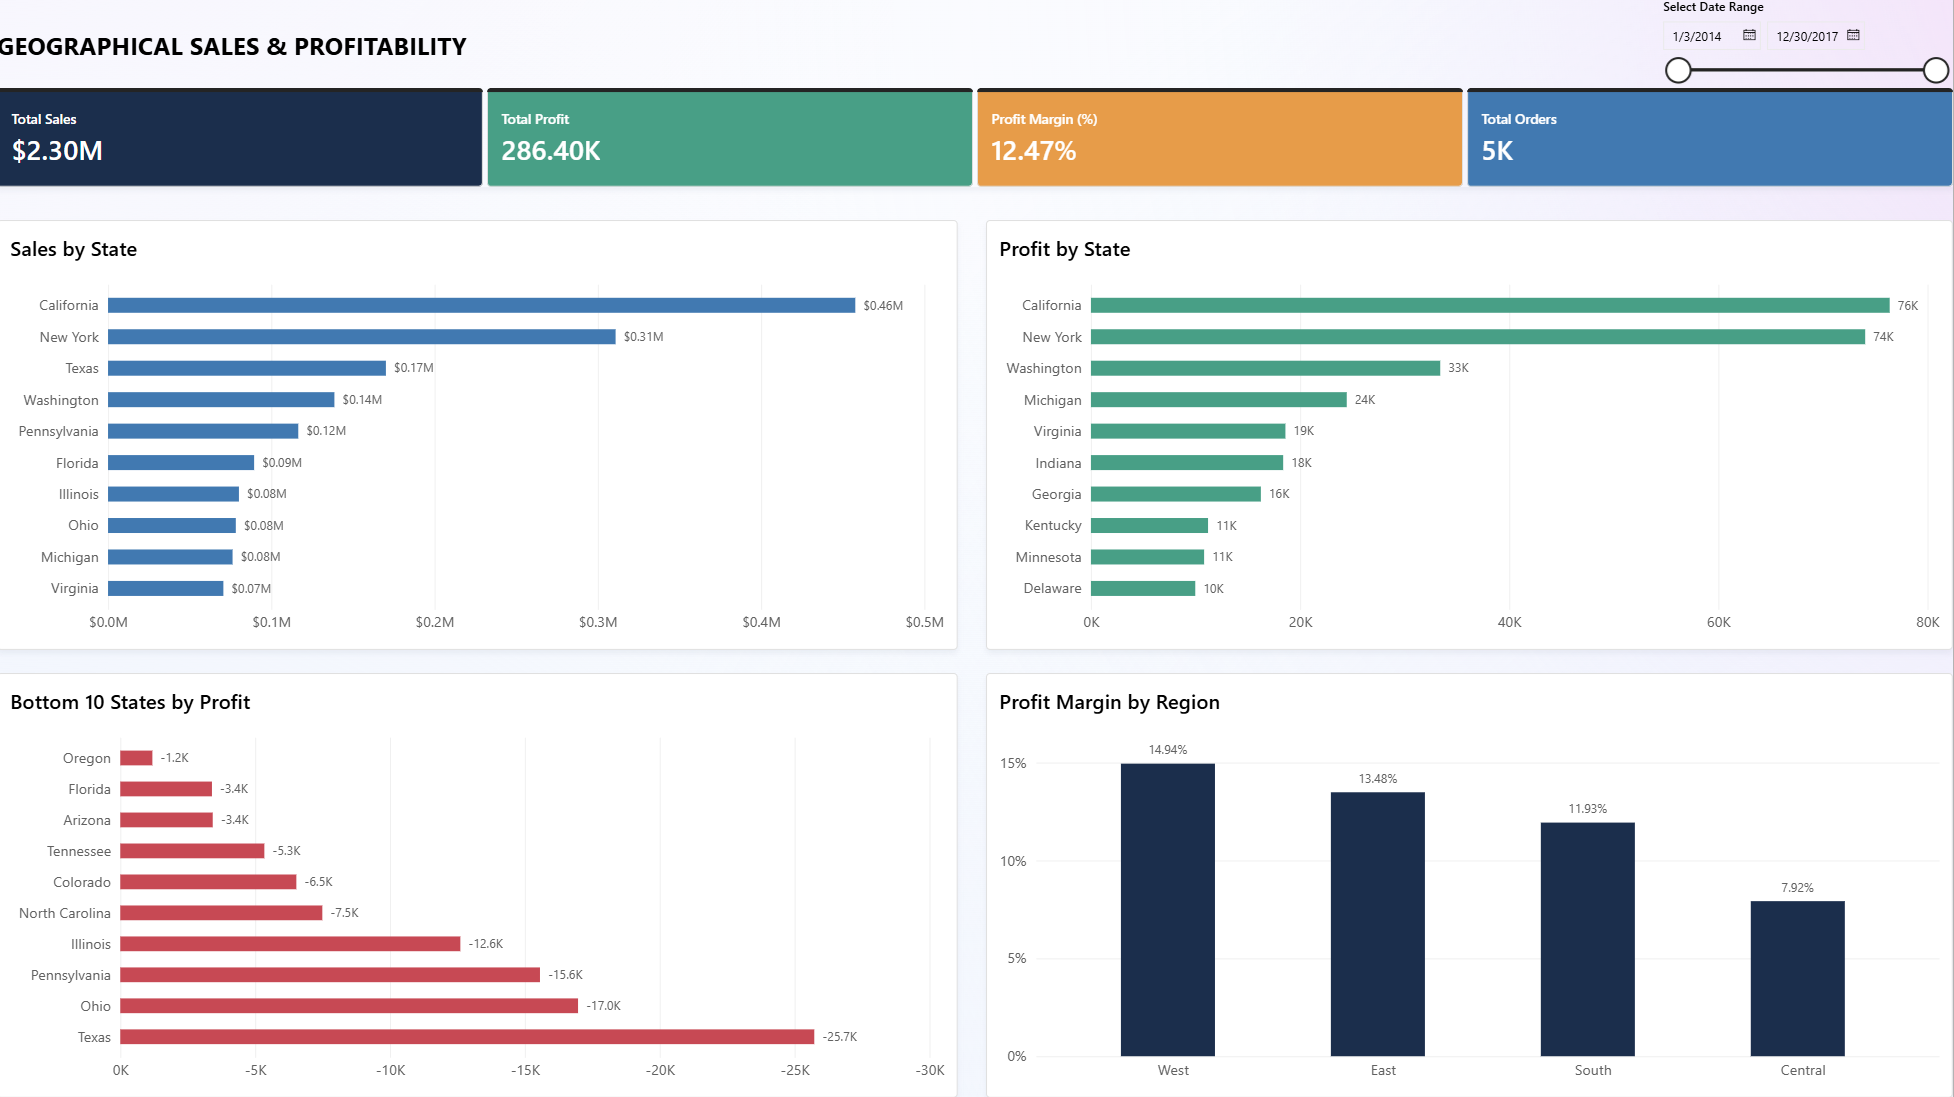

What the dashboard file says about the page in this screenshot:
{"tool":"powerbi","page":{"name":"Page 4","canvas":[1920,1080],"ordinal":3},"visuals":[{"type":"cardVisual","fields":{"Data":["stg_superstore.Total Sales","stg_superstore.Total Profit","stg_superstore.Profit Margin (%)","stg_superstore.Total Orders"]},"box":[0,88.3,1920,97.2],"z":0},{"type":"clusteredBarChart","title":"Sales by State","fields":{"Category":["stg_superstore.state"],"Y":["stg_superstore.Total Sales"]},"box":[0,217.9,943.3,422.1],"z":1000},{"type":"clusteredBarChart","title":"Profit by State","fields":{"Category":["stg_superstore.state"],"Y":["stg_superstore.Total Profit"]},"box":[970.8,217.9,949.2,422.1],"z":2000},{"type":"clusteredBarChart","title":"Bottom 10 States by Profit","fields":{"Category":["stg_superstore.state"],"Y":["stg_superstore.Total Profit"]},"box":[0,662.6,943.3,417.2],"z":3000},{"type":"clusteredColumnChart","title":"Profit Margin by Region","fields":{"Category":["stg_superstore.region"],"Y":["stg_superstore.Profit Margin (%)"]},"box":[970.8,662.6,949.2,417.2],"z":4000},{"type":"slicer","fields":{"Values":["stg_superstore.order_date"]},"box":[1627.5,0,292.5,88.3],"z":5000},{"type":"textbox","box":[16.7,22.6,680.2,43.2],"z":6000},{"type":"textbox","box":[0,30.4,678.3,70.7],"z":7000}]}

Visuals, with their boxes in screenshot pixels (x1, y1, x2, y2), scaled from the page's 1920x1080 canvas onto the 1954x1097 screenshot:
cardVisual - stg_superstore.Total Sales x stg_superstore.Total Profit: <bbox>0, 90, 1953, 188</bbox>
"Sales by State" clusteredBarChart: <bbox>0, 221, 960, 650</bbox>
"Profit by State" clusteredBarChart: <bbox>988, 221, 1953, 650</bbox>
"Bottom 10 States by Profit" clusteredBarChart: <bbox>0, 673, 960, 1096</bbox>
"Profit Margin by Region" clusteredColumnChart: <bbox>988, 673, 1953, 1096</bbox>
slicer - stg_superstore.order_date: <bbox>1656, 0, 1953, 90</bbox>
textbox: <bbox>17, 23, 709, 67</bbox>
textbox: <bbox>0, 31, 690, 103</bbox>
